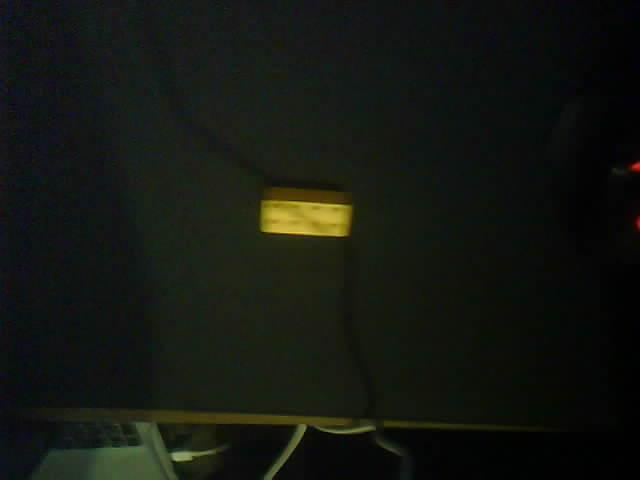lego: (257, 186, 355, 239)
